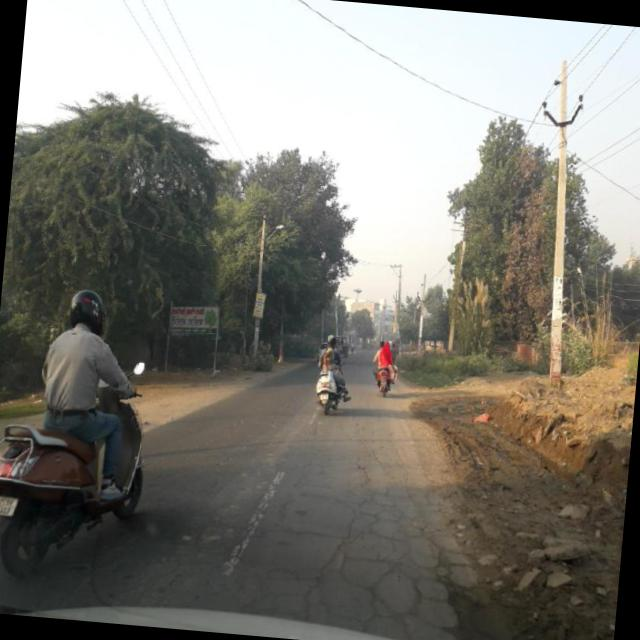crack: (160, 438, 522, 634)
